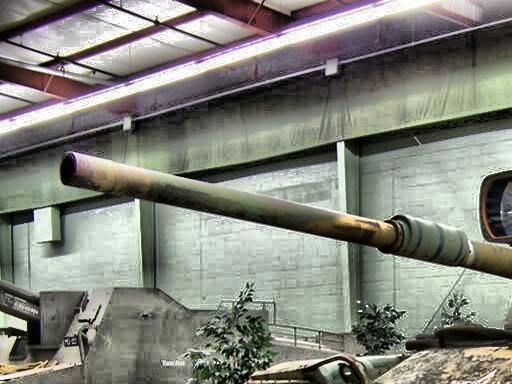tanks: (61, 153, 512, 280), (1, 282, 215, 384), (249, 312, 512, 384), (272, 325, 361, 362), (258, 305, 275, 320)
